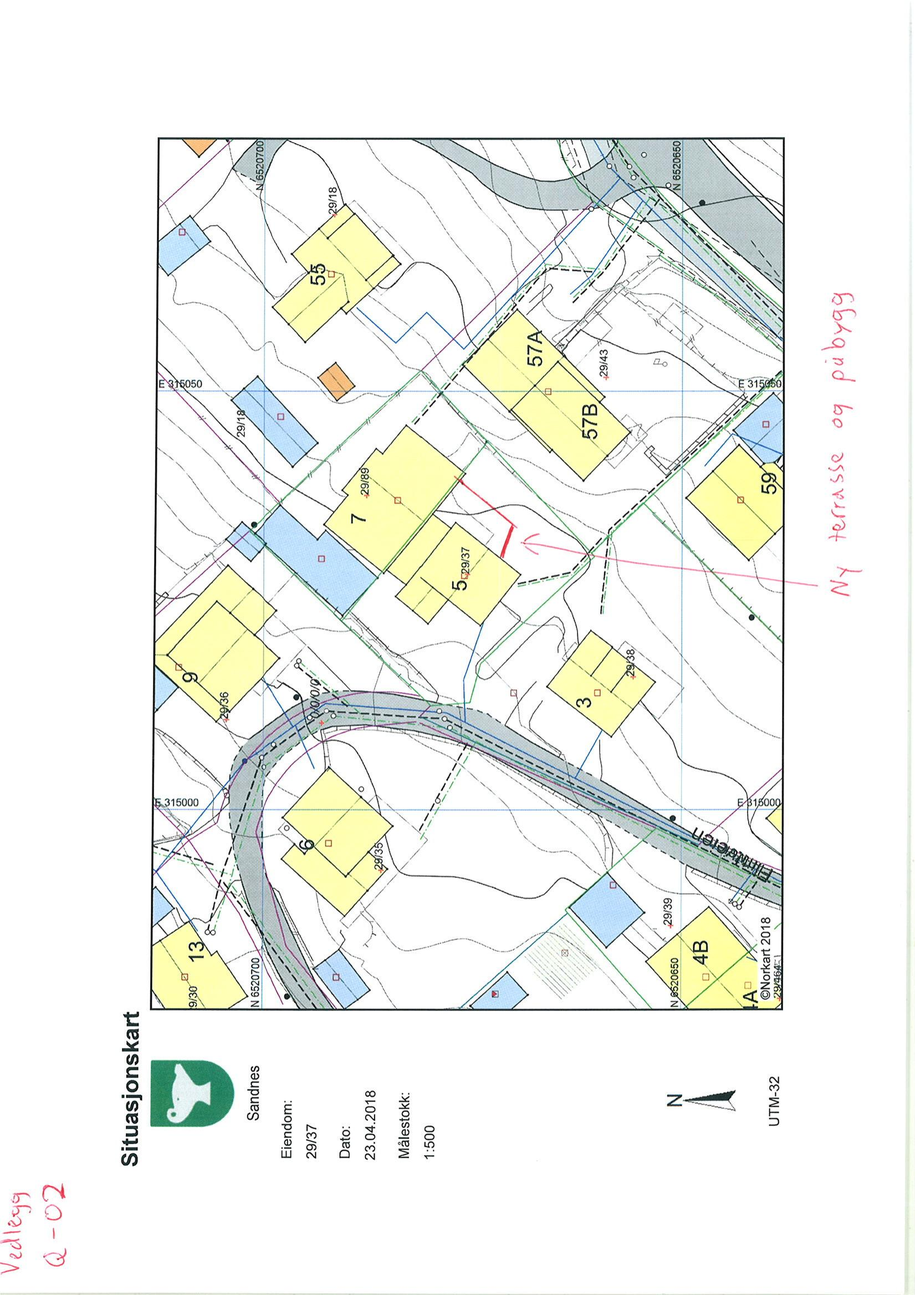situasjonskart: (155, 135, 786, 1012)
